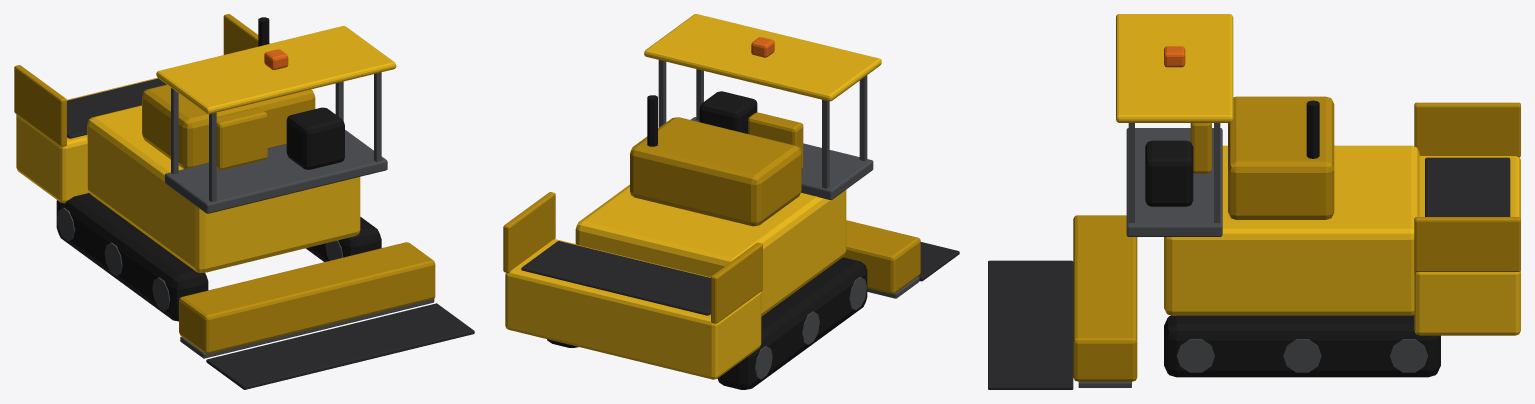
File: finiser.glb
The picture shows the model from 3 angles, left to right: view 1: azimuth 30°, elevation 25°; view 2: azimuth 150°, elevation 25°; view 3: azimuth 270°, elevation 25°; orthographic projection. The views are drawn at different scales.
Visible parts, largest first — view 1: Asfalt; view 2: Asfalt; view 3: Asfalt.
Part boxes in pixels (left/top/right/bottom): Asfalt: left=14, top=14, right=474, bottom=389; Asfalt: left=503, top=14, right=959, bottom=389; Asfalt: left=988, top=14, right=1520, bottom=389.
Bounding box in the file's own units: 0.56 × 0.575 × 1.
